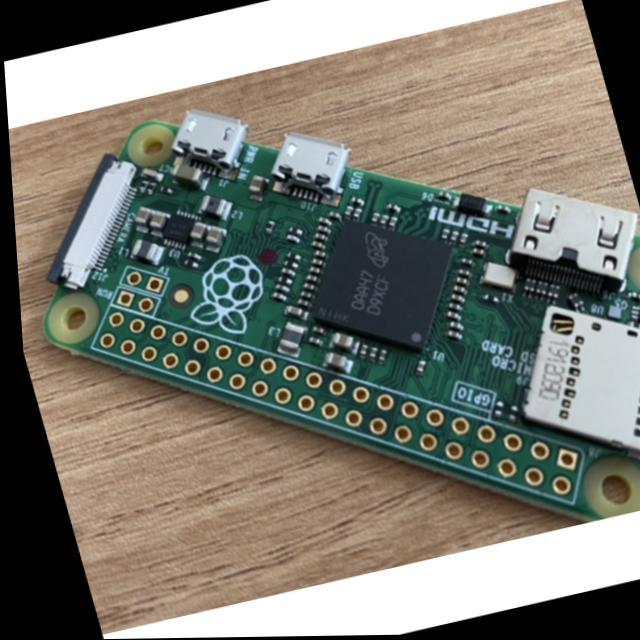Raspberry-Pi-Zero: (44, 111, 640, 520)
